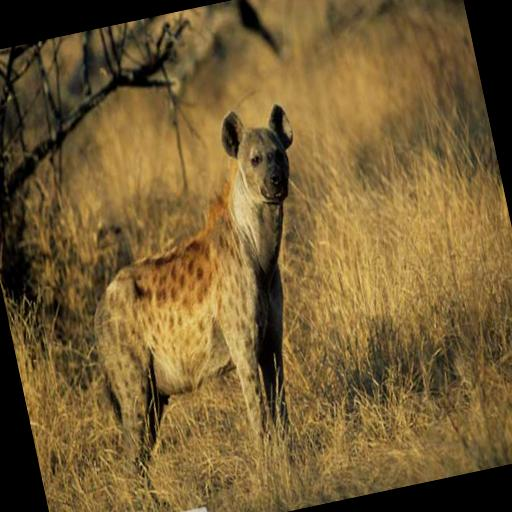hyenas: (38, 94, 362, 509)
